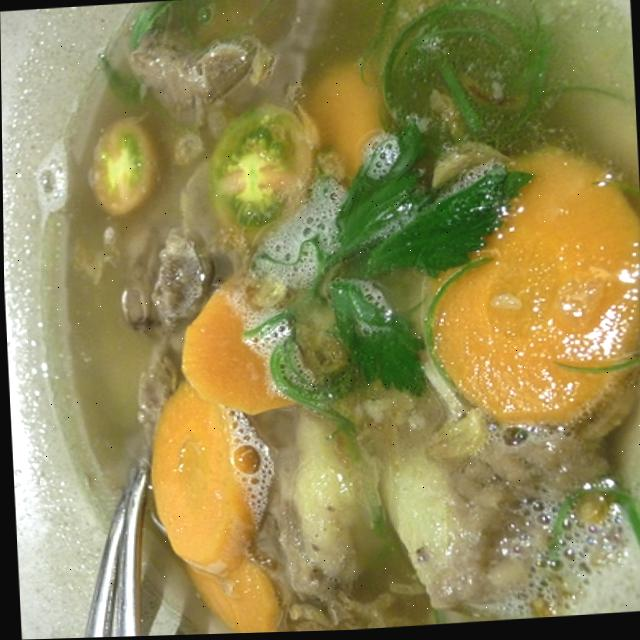汤锅炖物: (37, 0, 640, 634)
